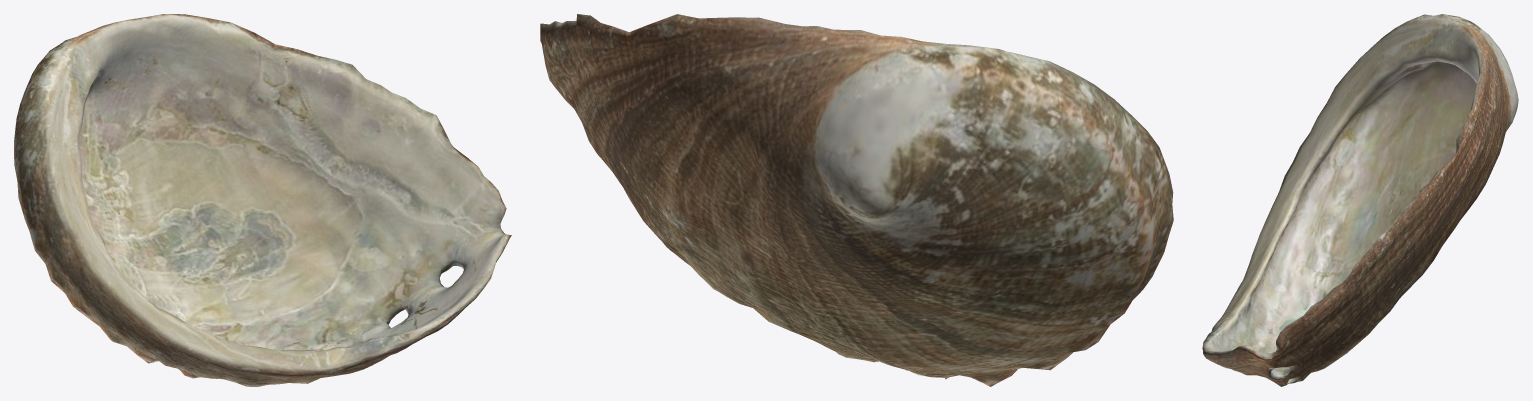
The model's file is IridescenceAbalone.glb.
3 renders of one model, left to right at view 1: azimuth 30°, elevation 25°; view 2: azimuth 150°, elevation 25°; view 3: azimuth 270°, elevation 25°, orthographic. The views are drawn at different scales.
Parts seen in each view (by area): view 1: IridescenceAbalone; view 2: IridescenceAbalone; view 3: IridescenceAbalone.
Part boxes in pixels (box(x1,y1,x2,y2)): IridescenceAbalone: box(14, 14, 511, 386); IridescenceAbalone: box(540, 14, 1173, 386); IridescenceAbalone: box(1202, 14, 1518, 386).
Size of the model in its own units: 0.2321 by 0.1556 by 0.1584.
Materials: 1 (1 with a texture image).
